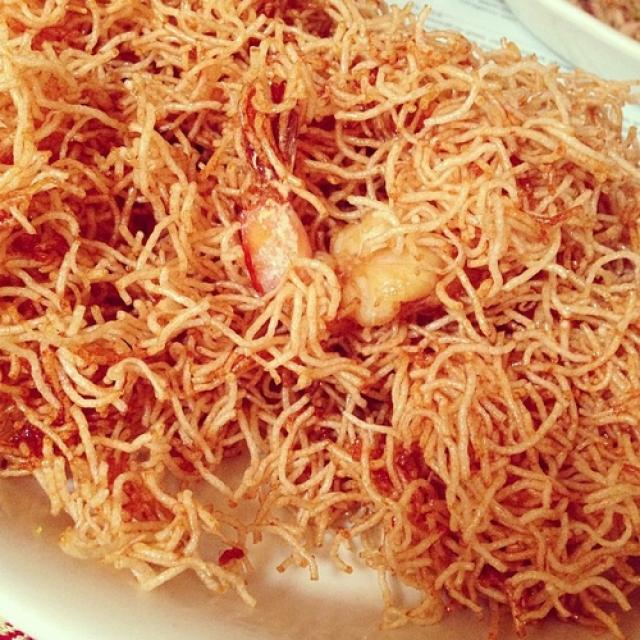面条主食: (16, 8, 620, 608)
